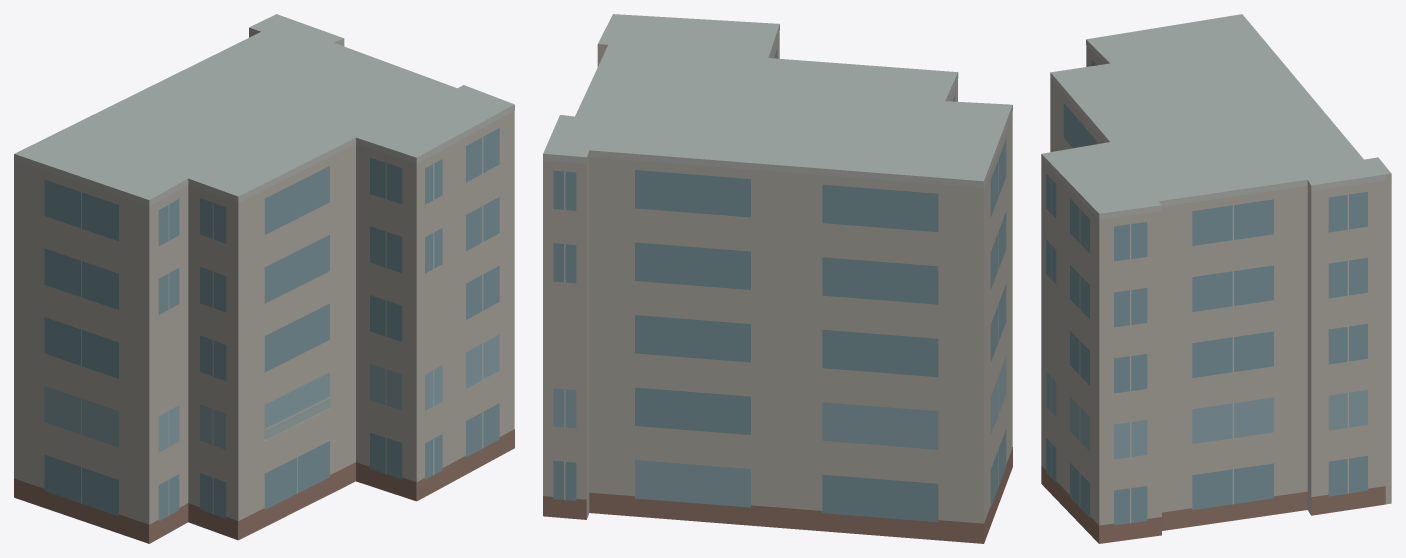
File: survey-upis-33012764.glb
The picture shows the model from 3 angles, left to right: view 1: azimuth 30°, elevation 25°; view 2: azimuth 150°, elevation 25°; view 3: azimuth 270°, elevation 25°; orthographic projection. The views are drawn at different scales.
Parts seen in each view (by area): view 1: survey-upis-33012764.tmp; view 2: survey-upis-33012764.tmp; view 3: survey-upis-33012764.tmp.
Part boxes in pixels (x1,y1,x2,y2): survey-upis-33012764.tmp: (14,14,514,543); survey-upis-33012764.tmp: (543,14,1012,543); survey-upis-33012764.tmp: (1041,14,1391,543).
Size of the model in its own units: 17.66 by 13.6 by 13.08.
